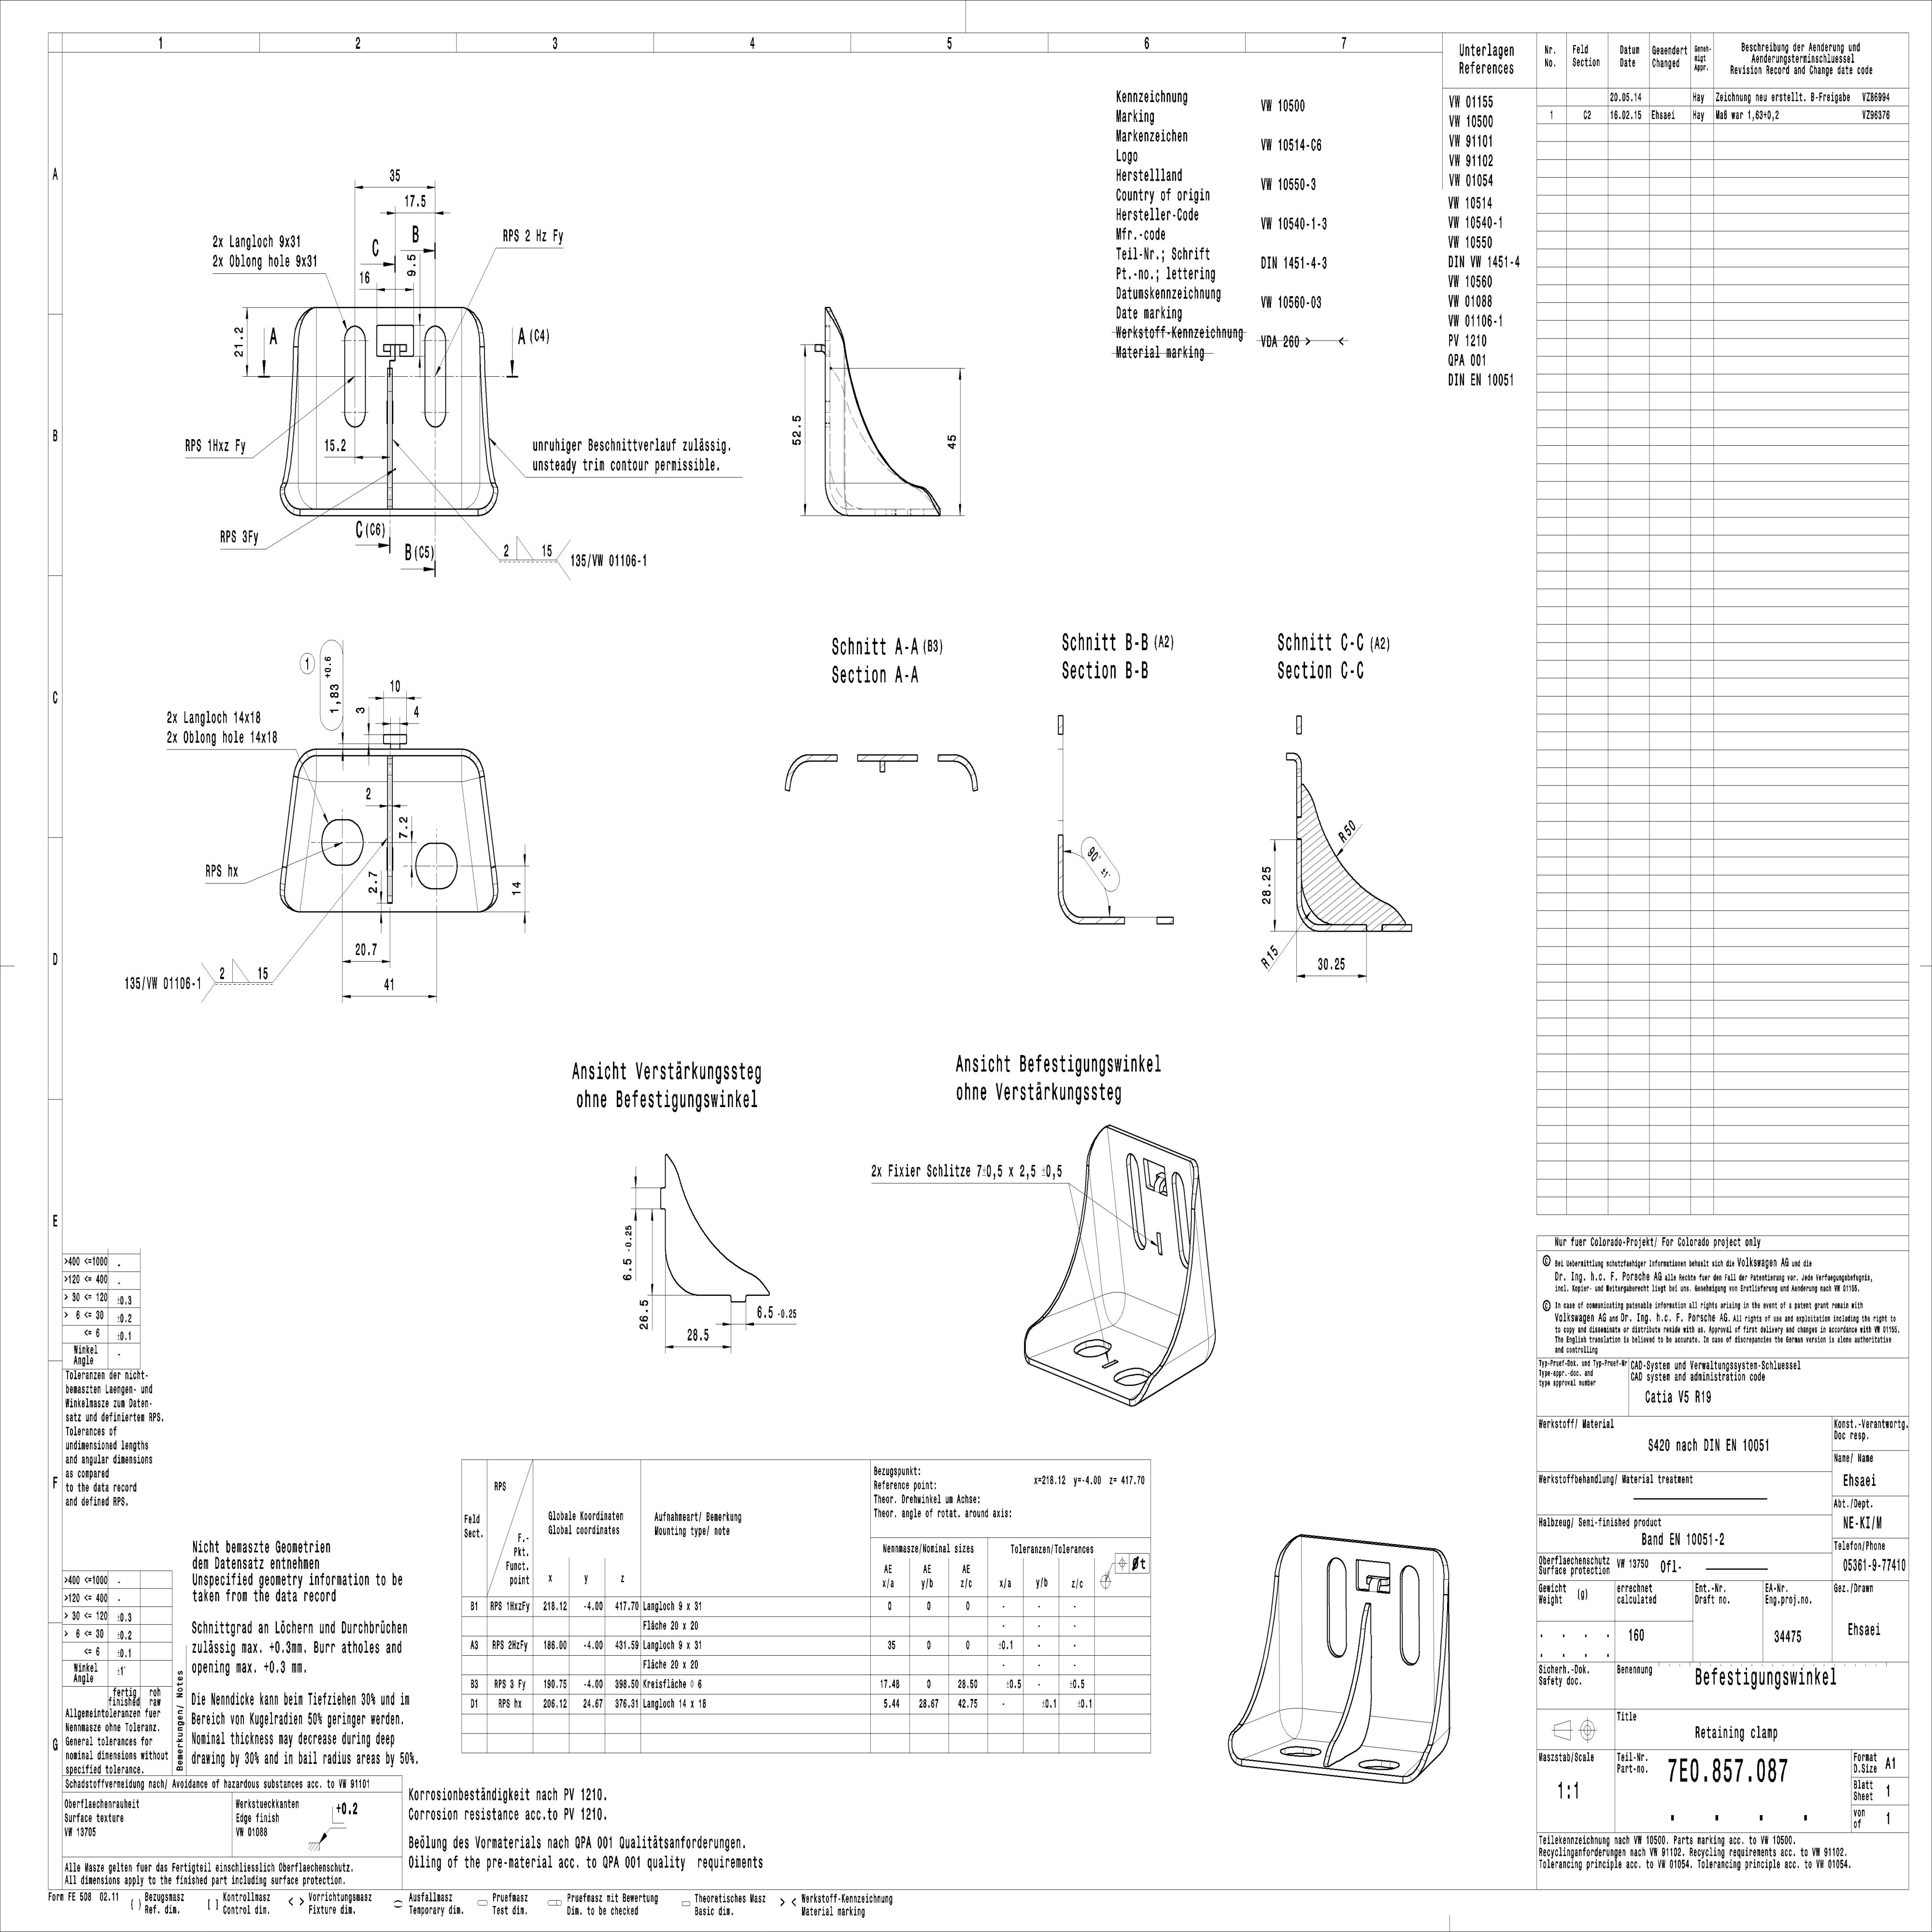BendingEdge: (1081, 1125, 1131, 1297), (1014, 1292, 1120, 1362), (1276, 1532, 1306, 1713), (458, 304, 483, 487), (1109, 1292, 1184, 1352), (295, 304, 318, 485), (1224, 1707, 1295, 1764), (1361, 1713, 1435, 1755), (313, 481, 389, 510), (391, 481, 462, 511), (1295, 1707, 1346, 1746)
BoxCorner: (292, 745, 320, 786), (1276, 1706, 1306, 1743), (458, 747, 487, 786), (1102, 1292, 1127, 1329), (295, 479, 322, 511), (460, 481, 481, 511)
InnerContour: (1122, 1152, 1154, 1254), (1166, 1169, 1198, 1272), (1398, 1564, 1424, 1667), (341, 324, 366, 430), (423, 324, 448, 430), (1323, 1555, 1348, 1661), (318, 817, 364, 869), (414, 842, 460, 892), (1070, 1327, 1116, 1369), (1109, 1357, 1155, 1392), (1279, 1744, 1323, 1759), (1359, 1757, 1401, 1771), (1100, 1355, 1122, 1373), (1155, 1230, 1164, 1256)
